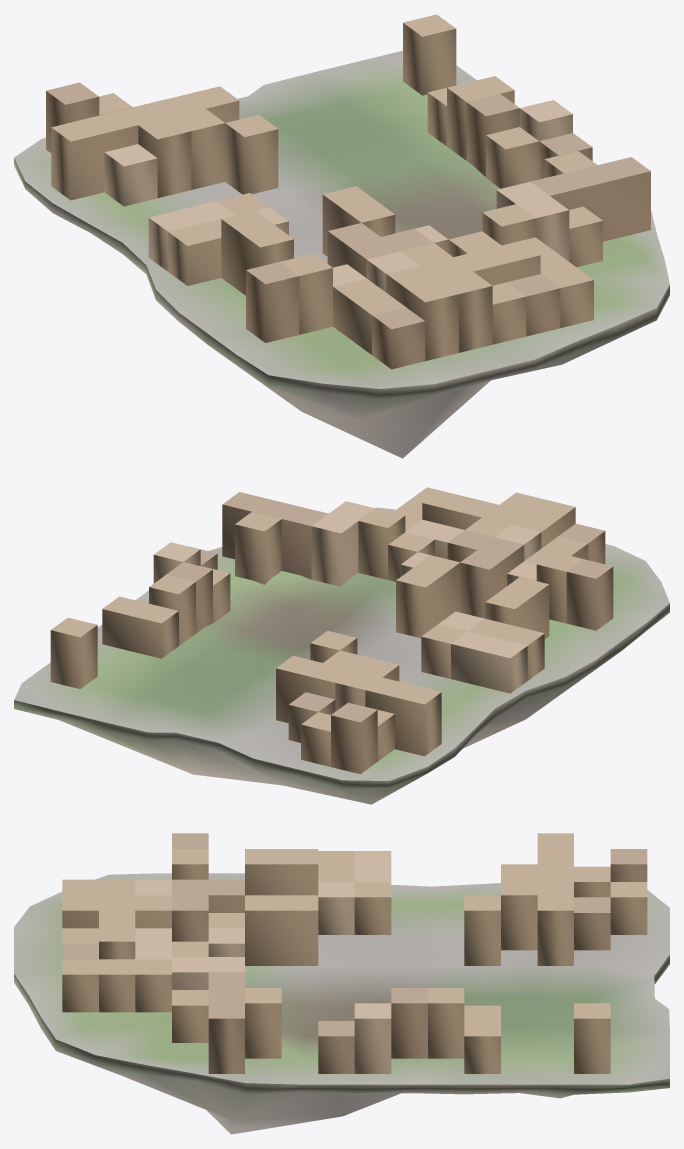
The model's file is SKY-093.lod1.glb.
3 views of the same model, one above another, from view 1: azimuth 30°, elevation 25°; view 2: azimuth 150°, elevation 25°; view 3: azimuth 270°, elevation 25° (orthographic). The views are drawn at different scales.
Visible parts, largest first — view 1: warren_hull, deck, rock; view 2: warren_hull, deck, rock; view 3: warren_hull, deck, rock.
Boxes of the visible parts, x1,y1,x2,y2 form: warren_hull: (46,14,650,369); deck: (14,50,669,388); rock: (14,158,669,458); warren_hull: (50,487,613,774); deck: (14,507,669,780); rock: (14,603,669,804); warren_hull: (62,833,647,1073); deck: (14,873,669,1084); rock: (14,954,669,1134).
Bounding box in the file's own units: 82.08 × 40.55 × 108.
